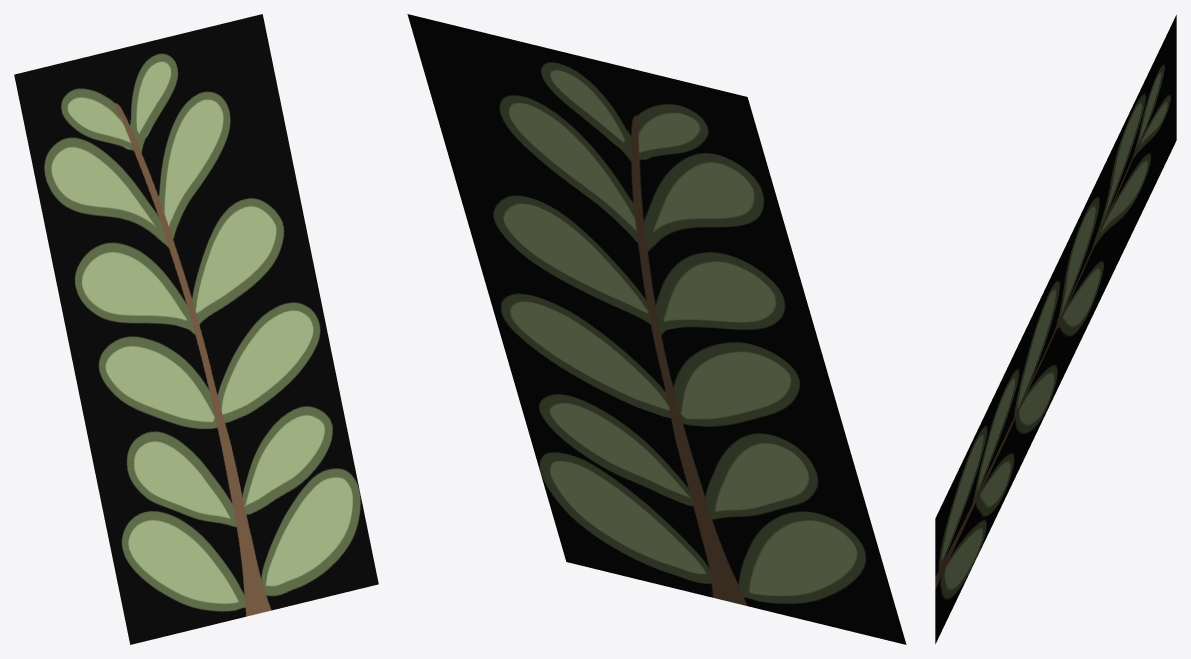
File: Flower_001.fbx
The picture shows the model from 3 angles, left to right: view 1: azimuth 30°, elevation 25°; view 2: azimuth 150°, elevation 25°; view 3: azimuth 270°, elevation 25°; orthographic projection. The views are drawn at different scales.
Visible parts, largest first — view 1: Flower_001; view 2: Flower_001; view 3: Flower_001.
Boxes of the visible parts, bbox=[...] form: Flower_001: bbox=[14, 14, 378, 644]; Flower_001: bbox=[407, 14, 906, 644]; Flower_001: bbox=[935, 15, 1176, 643].
Size of the model in its own units: 129 by 240 by 104.
1 material, 1 textured.
